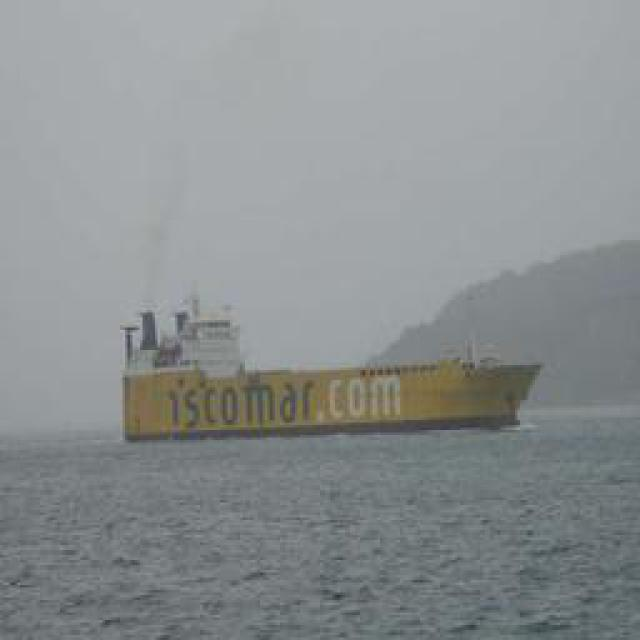Ship: (122, 346, 542, 439)
